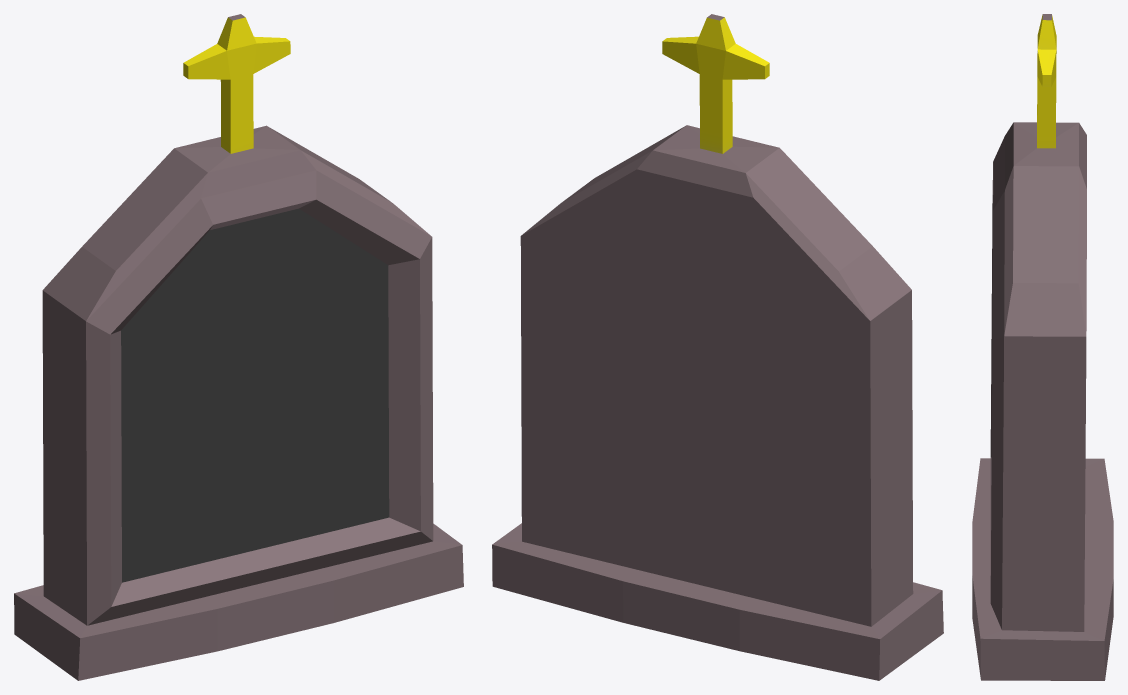
Rendered from Grave.fbx.
3 renders of one model, left to right at view 1: azimuth 30°, elevation 25°; view 2: azimuth 150°, elevation 25°; view 3: azimuth 270°, elevation 25°, orthographic. The views are drawn at different scales.
Visible parts, largest first — view 1: Cube; view 2: Cube; view 3: Cube.
Boxes of the visible parts, x1,y1,x2,y2 form: Cube: (14, 14, 463, 680); Cube: (492, 14, 943, 680); Cube: (972, 14, 1113, 680).
Bounding box in the file's own units: 331 × 484 × 109.
